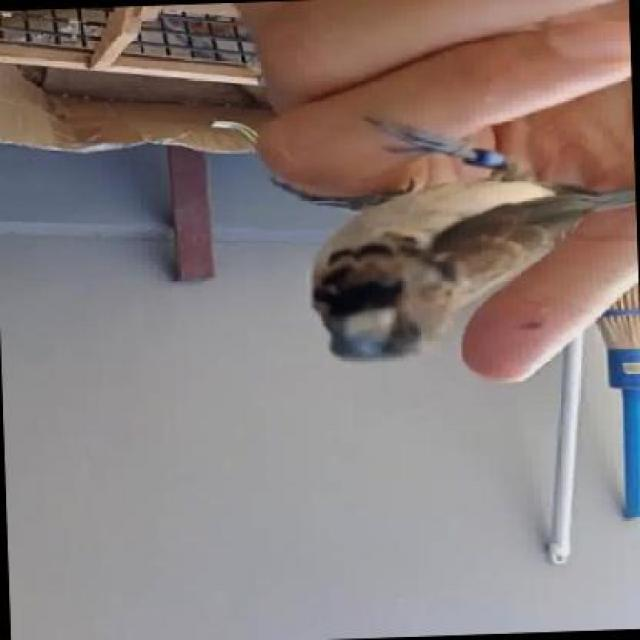Bird: (246, 109, 640, 365)
